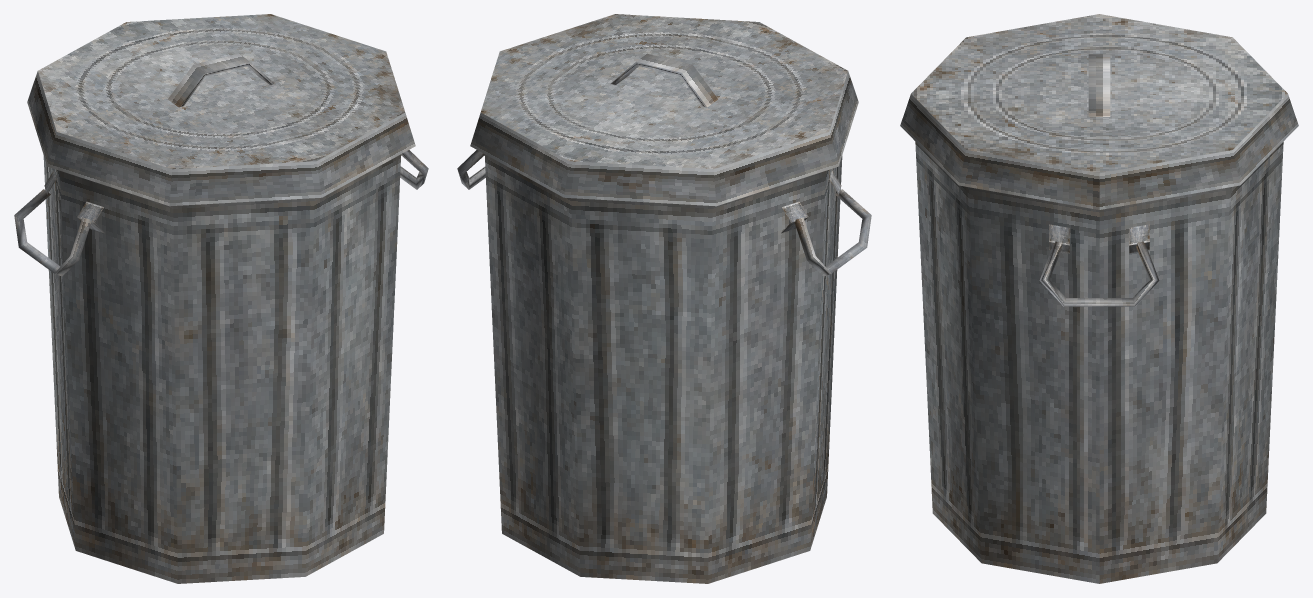
Rendered from galvanised-rubbish-bin.glb.
3 renders of one model, left to right at view 1: azimuth 30°, elevation 25°; view 2: azimuth 150°, elevation 25°; view 3: azimuth 270°, elevation 25°, orthographic.
Visible parts, largest first — view 1: galvanised-rubbish-bin; view 2: galvanised-rubbish-bin; view 3: galvanised-rubbish-bin.
Part boxes in pixels (x1,y1,x2,y2): galvanised-rubbish-bin: (14,14,428,583); galvanised-rubbish-bin: (457,14,871,583); galvanised-rubbish-bin: (900,14,1298,583).
Size of the model in its own units: 0.584 by 0.6818 by 0.55.
Materials: 1 (1 with a texture image).
